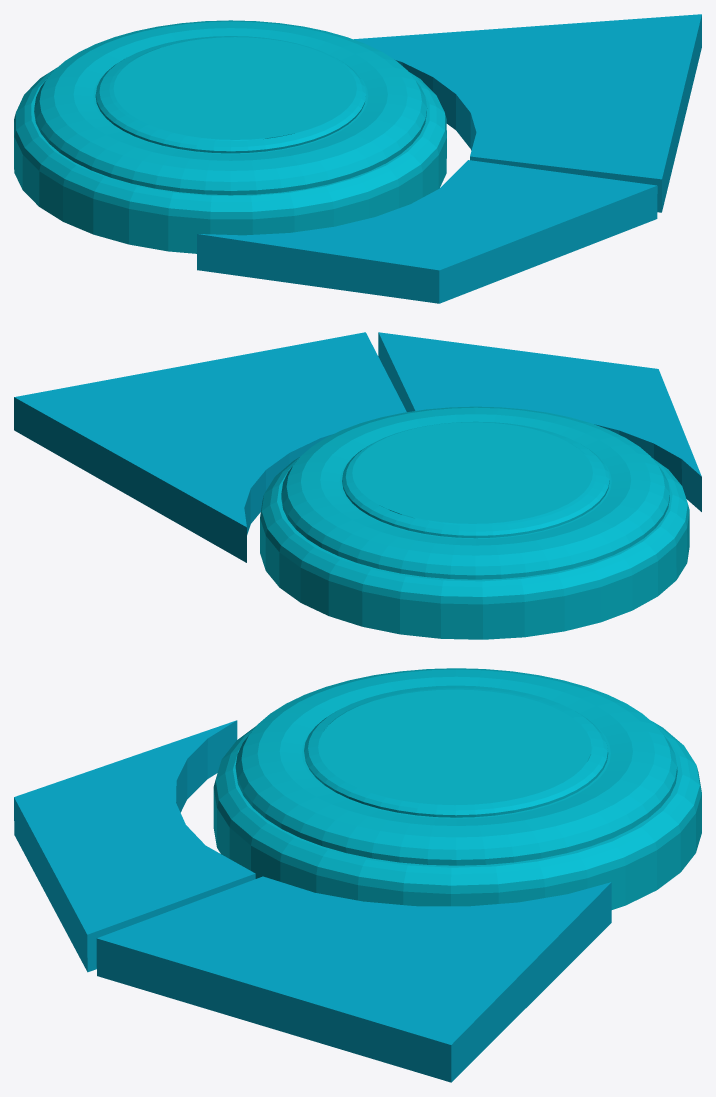
Rendered from menu 2B .fbx.
The picture shows the model from 3 angles, top to bottom: view 1: azimuth 30°, elevation 25°; view 2: azimuth 150°, elevation 25°; view 3: azimuth 270°, elevation 25°; orthographic projection. The views are drawn at different scales.
Parts seen in each view (by area): view 1: Cube.004, Cube.006, Cube.007; view 2: Cube.004, Cube.006, Cube.007; view 3: Cube.004, Cube.006, Cube.007.
Boxes of the visible parts, x1,y1,x2,y2 form: Cube.004: (14, 20, 446, 253); Cube.006: (354, 14, 701, 212); Cube.007: (197, 160, 657, 303); Cube.004: (260, 406, 689, 639); Cube.006: (14, 332, 406, 562); Cube.007: (378, 332, 701, 511); Cube.004: (213, 668, 701, 909); Cube.006: (96, 876, 611, 1082); Cube.007: (14, 720, 255, 972).
Size of the model in its own units: 349 by 39.96 by 282.
